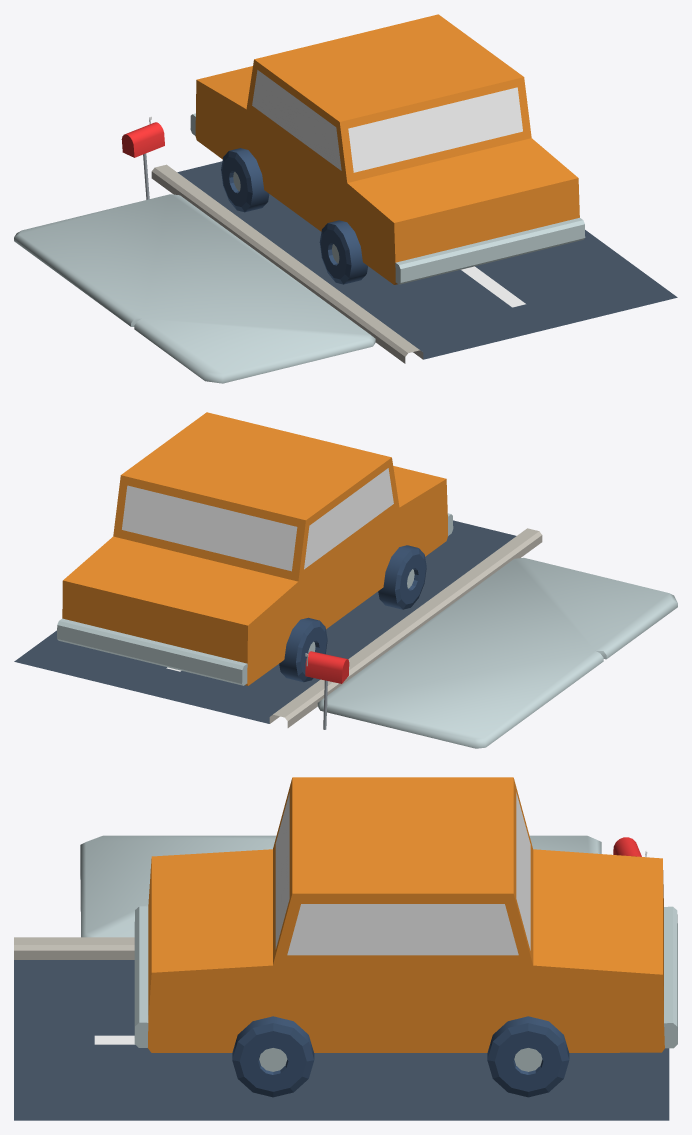
The model's file is SM_Road.FBX.
3 renders of one model, top to bottom at view 1: azimuth 30°, elevation 25°; view 2: azimuth 150°, elevation 25°; view 3: azimuth 270°, elevation 25°, orthographic. The views are drawn at different scales.
Parts seen in each view (by area): view 1: Car, DropZone, Road, PostLetter; view 2: Car, DropZone, Road, PostLetter; view 3: Car, Road, DropZone.
Part boxes in pixels (x1,y1,x2,y2): Car: (190, 14, 585, 284); DropZone: (14, 194, 375, 383); Road: (151, 161, 677, 363); PostLetter: (121, 116, 164, 199); Car: (57, 412, 453, 685); DropZone: (317, 557, 677, 748); Road: (14, 520, 542, 727); PostLetter: (305, 651, 349, 729); Car: (134, 777, 677, 1097); Road: (14, 937, 669, 1120); DropZone: (80, 835, 601, 937).
Size of the model in its own units: 631 by 221 by 638.
2 materials, 2 textured.
